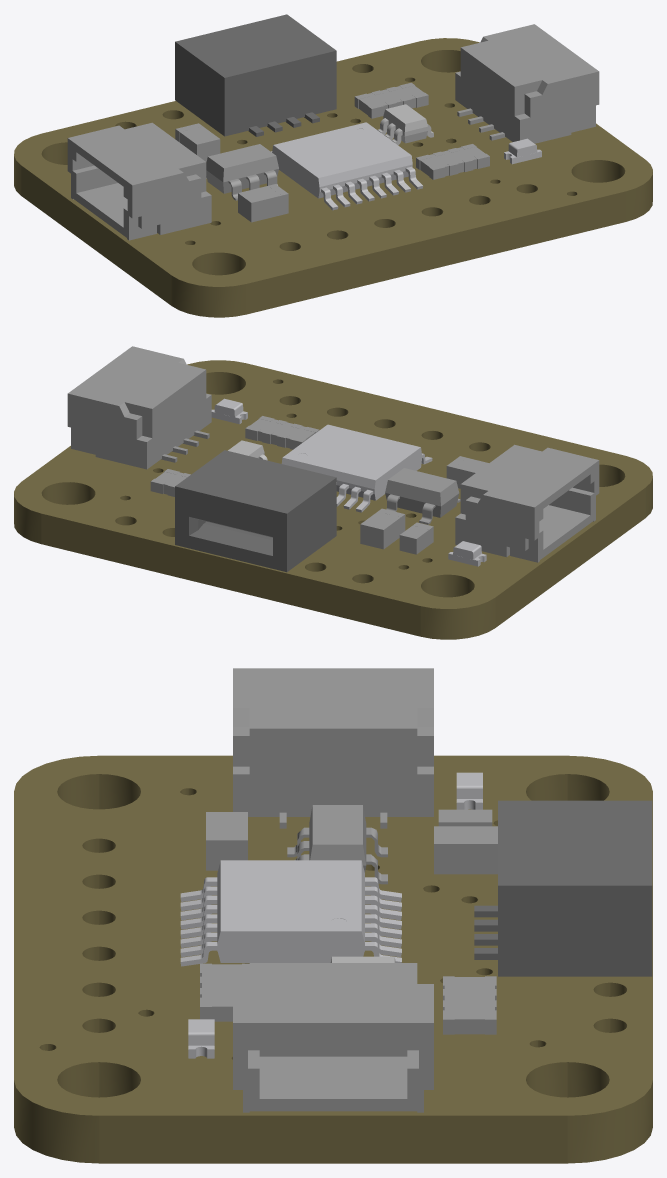
The model's file is ada-5423.glb.
3 views of the same model, one above another, from view 1: azimuth 30°, elevation 25°; view 2: azimuth 150°, elevation 25°; view 3: azimuth 270°, elevation 25° (orthographic). The views are drawn at different scales.
Parts seen in each view (by area): view 1: 0.16666666666666666_0.16666666666666666_0.08333333333333333_, 0.3333333333333333_0.3333333333333333_0.3333333333333333_0, 0.16666666666666666_0.16666666666666666_0.16666666666666666_, 0.5833333333333334_0.5833333333333334_0.5833333333333334_0.8, 0.5_0.5_0.5_0.85; view 2: 0.16666666666666666_0.16666666666666666_0.08333333333333333_, 0.3333333333333333_0.3333333333333333_0.3333333333333333_0, 0.16666666666666666_0.16666666666666666_0.16666666666666666_, 0.5833333333333334_0.5833333333333334_0.5833333333333334_0.8, 0.5_0.5_0.5_0.85; view 3: 0.16666666666666666_0.16666666666666666_0.08333333333333333_, 0.3333333333333333_0.3333333333333333_0.3333333333333333_0, 0.16666666666666666_0.16666666666666666_0.16666666666666666_, 0.5833333333333334_0.5833333333333334_0.5833333333333334_0.8.
Boxes of the visible parts, box(x1,y1,x2,y2) form: 0.16666666666666666_0.16666666666666666_0.08333333333333333_: box(14, 38, 652, 317); 0.3333333333333333_0.3333333333333333_0.3333333333333333_0: box(67, 24, 599, 240); 0.16666666666666666_0.16666666666666666_0.16666666666666666_: box(175, 14, 336, 136); 0.5833333333333334_0.5833333333333334_0.5833333333333334_0.8: box(271, 122, 541, 210); 0.5_0.5_0.5_0.85: box(377, 104, 433, 145); 0.16666666666666666_0.16666666666666666_0.08333333333333333_: box(14, 360, 652, 639); 0.3333333333333333_0.3333333333333333_0.3333333333333333_0: box(67, 346, 599, 562); 0.16666666666666666_0.16666666666666666_0.16666666666666666_: box(175, 450, 336, 572); 0.5833333333333334_0.5833333333333334_0.5833333333333334_0.8: box(211, 398, 486, 566); 0.5_0.5_0.5_0.85: box(228, 440, 267, 460); 0.16666666666666666_0.16666666666666666_0.08333333333333333_: box(14, 755, 652, 1163); 0.3333333333333333_0.3333333333333333_0.3333333333333333_0: box(200, 668, 497, 1112); 0.16666666666666666_0.16666666666666666_0.16666666666666666_: box(474, 800, 652, 976); 0.5833333333333334_0.5833333333333334_0.5833333333333334_0.8: box(180, 772, 482, 1058).
Bounding box in the file's own units: 2.54 × 0.462 × 1.9.
